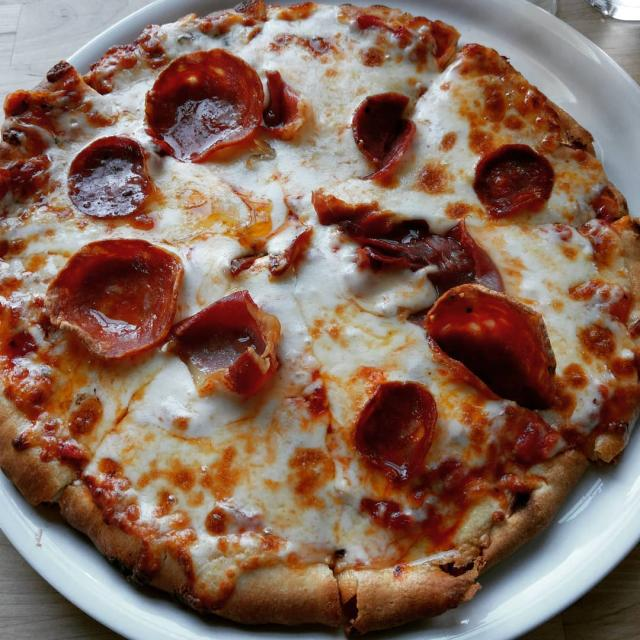pepperoni: (45, 240, 184, 359), (424, 284, 556, 408), (146, 49, 264, 161), (170, 291, 280, 396), (355, 220, 504, 293), (355, 381, 437, 482), (69, 136, 151, 218), (474, 145, 554, 218), (352, 93, 417, 178), (266, 212, 313, 276), (262, 72, 298, 128)
pizza: (0, 0, 640, 632)
